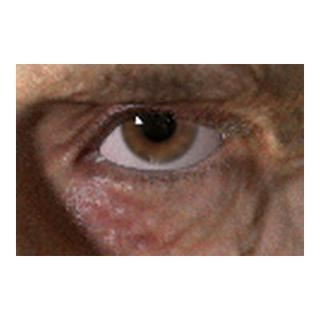pupil: (141, 107, 176, 141)
